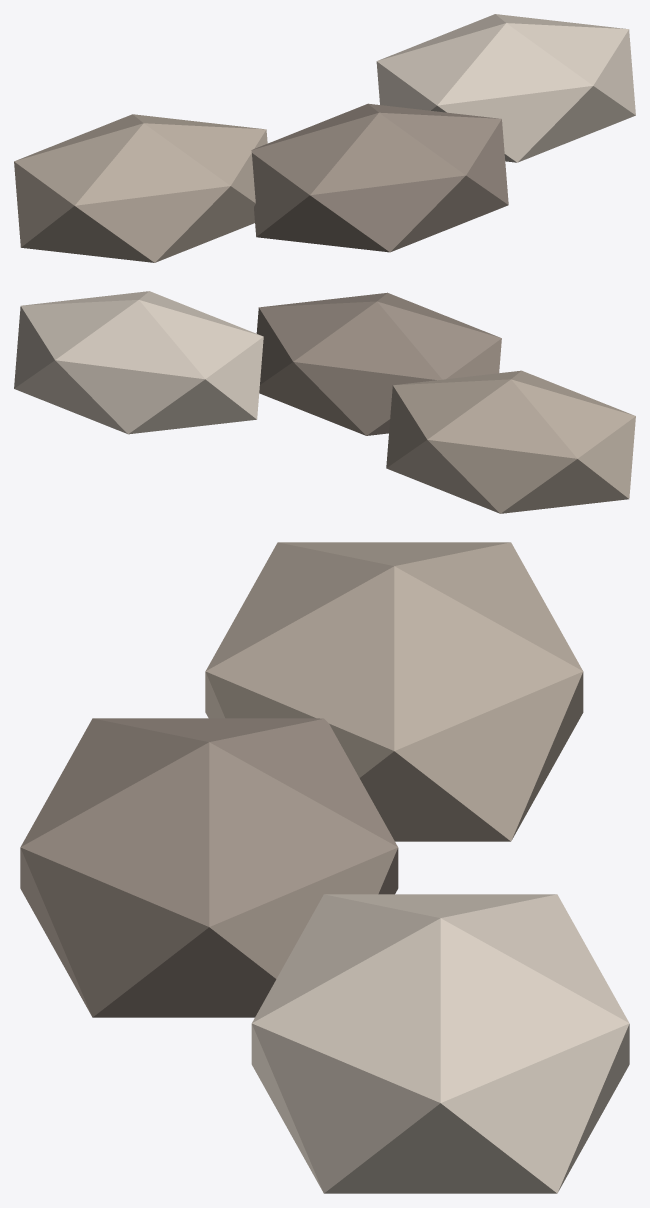
Rendered from pebbles.glb.
The picture shows the model from 3 angles, top to bottom: view 1: azimuth 30°, elevation 25°; view 2: azimuth 150°, elevation 25°; view 3: azimuth 270°, elevation 25°; orthographic projection. The views are drawn at different scales.
Parts seen in each view (by area): view 1: pebbles; view 2: pebbles; view 3: pebbles.
Boxes of the visible parts, bbox=[...] form: pebbles: bbox=[14, 14, 635, 262]; pebbles: bbox=[14, 291, 635, 513]; pebbles: bbox=[20, 542, 629, 1193].
Bounding box in the file's own units: 0.5961 × 0.12 × 0.2633.
